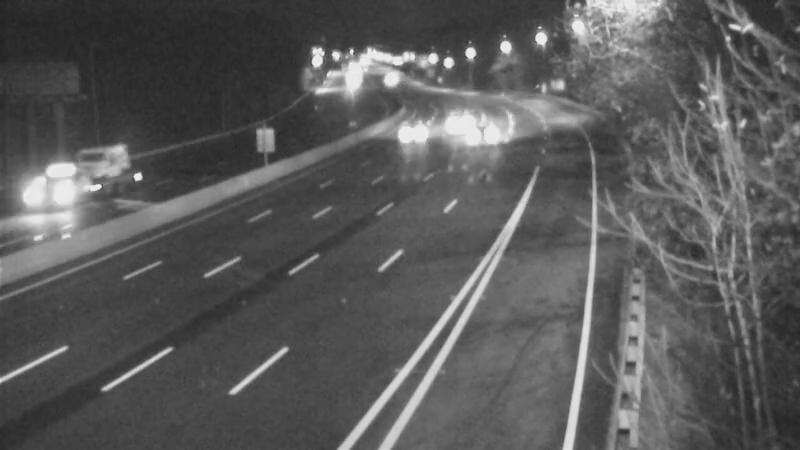vehicle: (27, 151, 107, 231), (365, 57, 415, 107), (427, 98, 477, 148), (385, 105, 435, 155), (459, 104, 509, 154)
